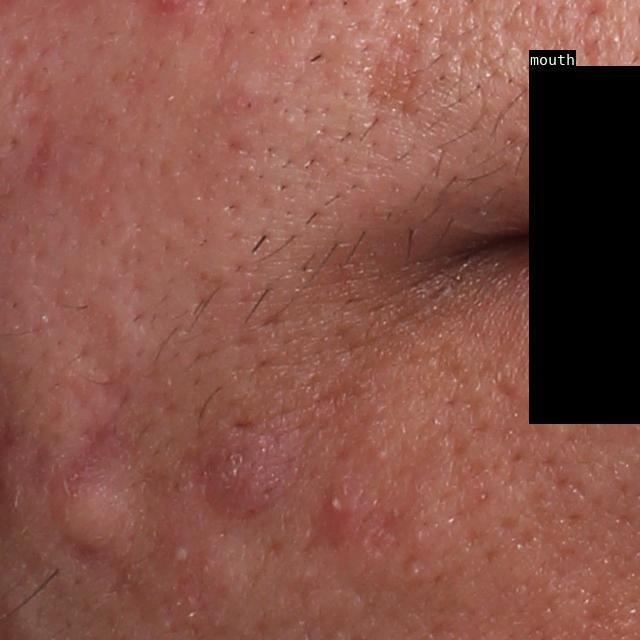atrophic_scar: (359, 21, 422, 111)
hypertrophic_scar: (49, 478, 134, 562)
papule: (204, 442, 275, 521), (318, 473, 362, 526)
